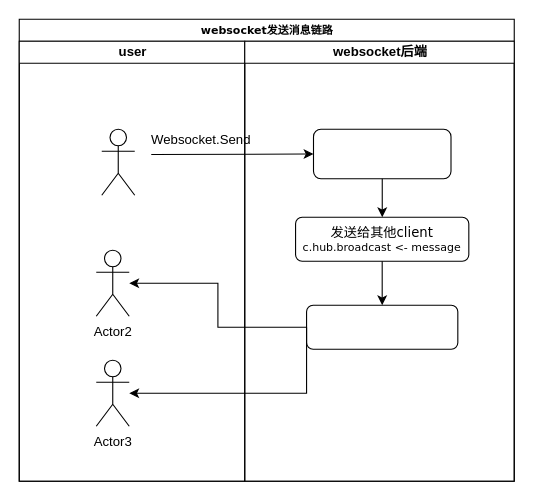
Some shapes in this 534 by 501 pixel diagram are drawn without their labels. Each missing label, with the centre of its shape:
"Actor1" goes at (118,161).
"不同client发送消息 w.Write()" goes at (381,326).
"监听消息协程收到消息" goes at (381,153).
